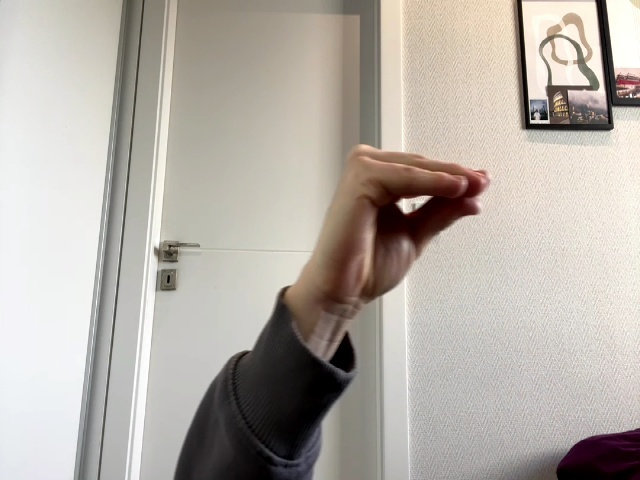E: (306, 144, 491, 337)
